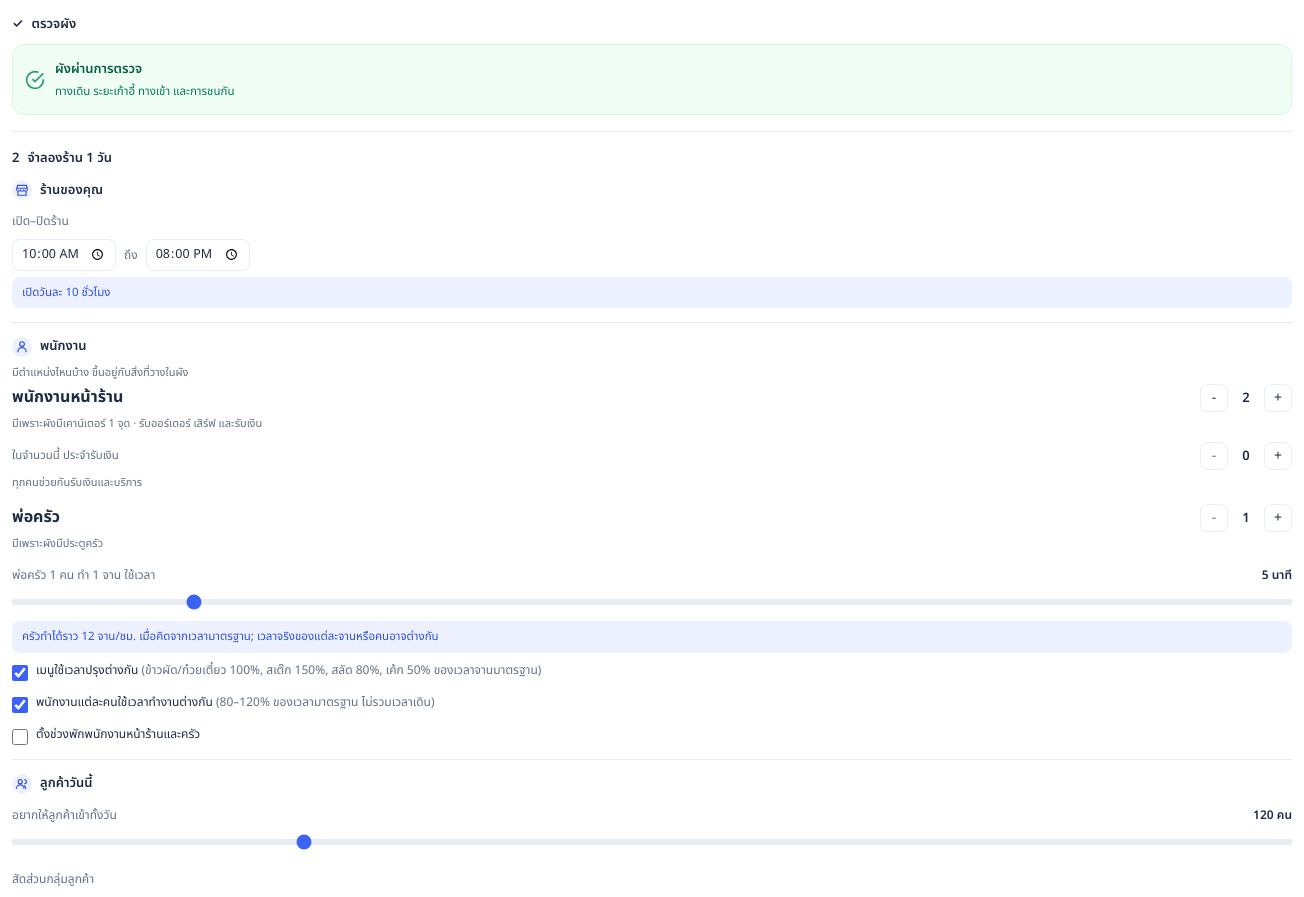
แผงจำลองร้าน 1 วัน (feat-095) › เพิ่มพ่อครัว → ครัวทำได้มากขึ้น; แก้เวลาเปิด–ปิด → ชั่วโมงเปลี่ยน
The image size is (1304, 897).
Click the button named "เพิ่มพ่อครัว".
click(1278, 518)  # box [1264,504,1292,532]
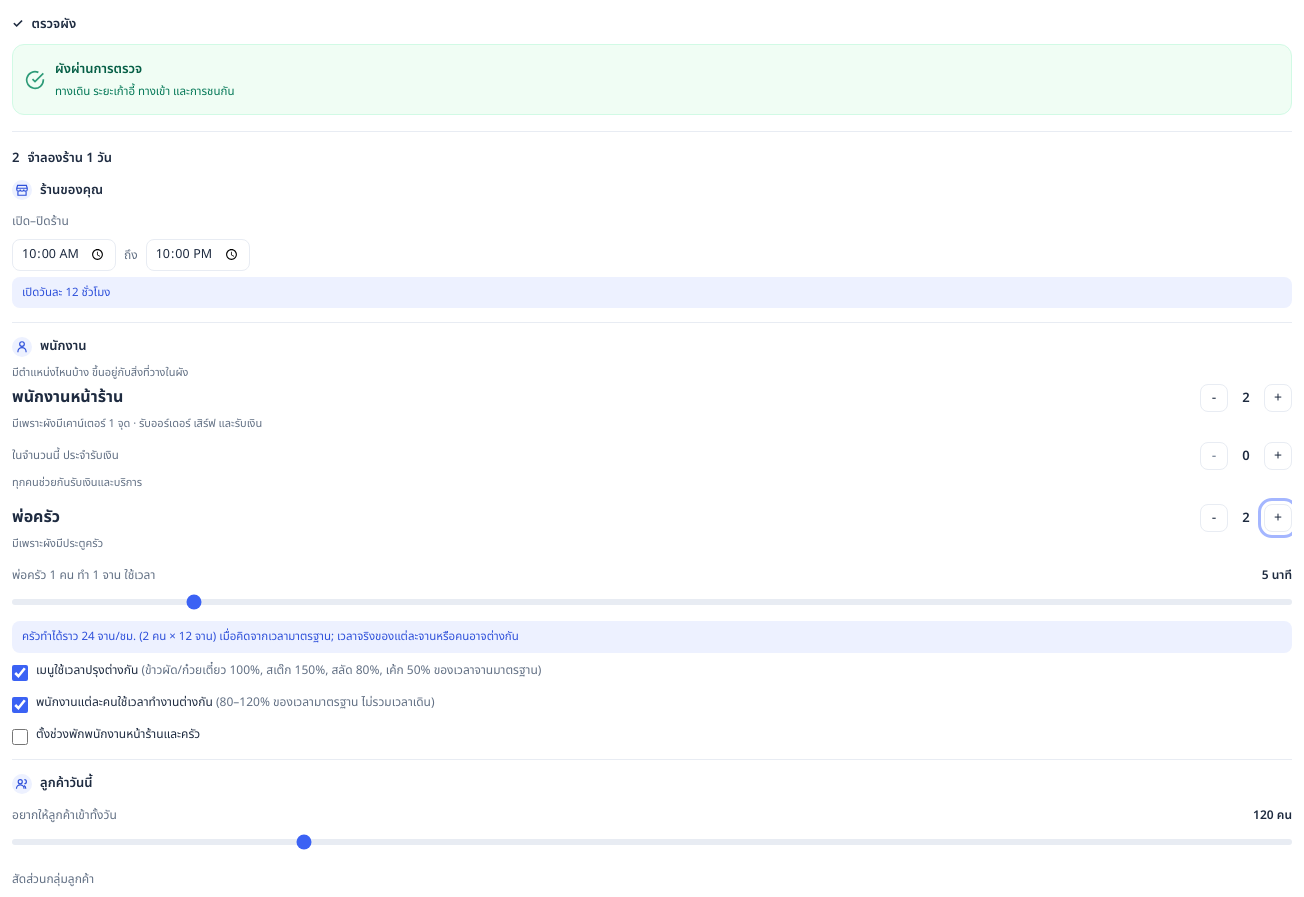
Expected: the button named "ลดพ่อครัว" is enabled, [1200,504,1228,532]
Now the text "เปิดวันละ 12 ชั่วโมง" is shown, box [12,277,1292,308]
